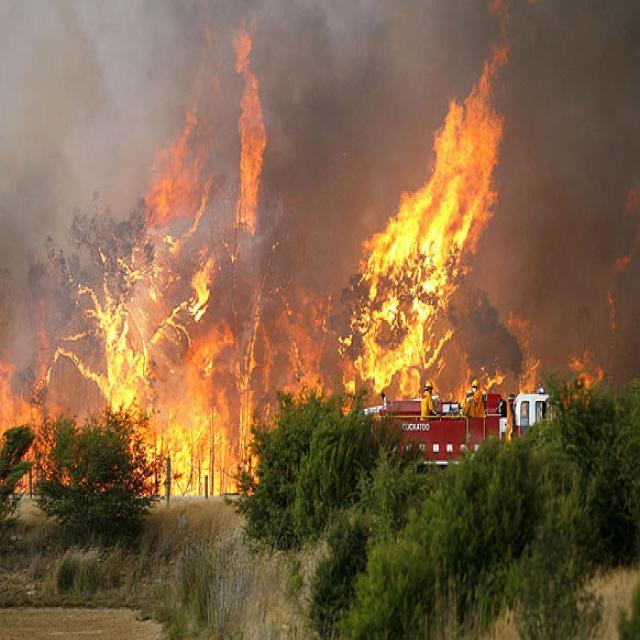Fire: (0, 11, 332, 522), (333, 0, 542, 421)
Smoke: (207, 0, 457, 363), (449, 0, 640, 387), (0, 0, 146, 406)
